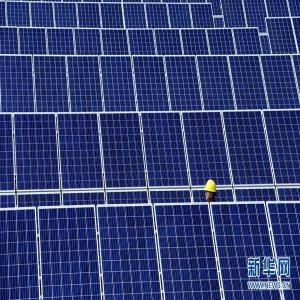yellow: (204, 179, 219, 206)
